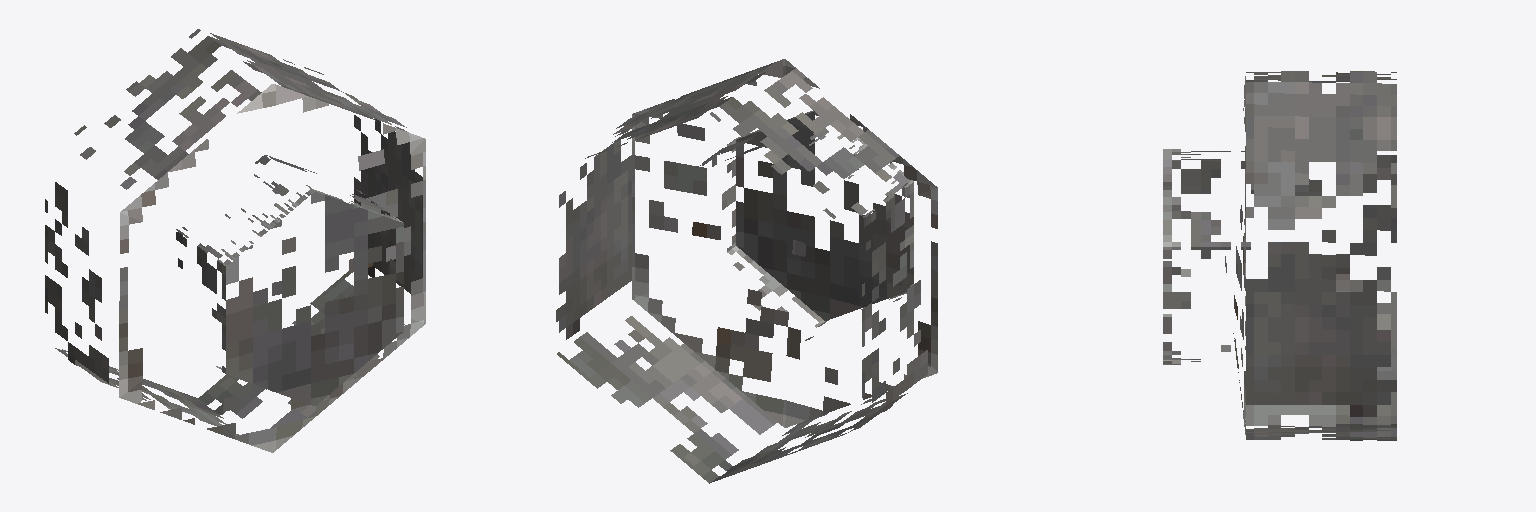
3 renders of one model, left to right at view 1: azimuth 30°, elevation 25°; view 2: azimuth 150°, elevation 25°; view 3: azimuth 270°, elevation 25°, orthographic.
Parts seen in each view (by area): view 1: mtl_p_rus_angle_plate; view 2: mtl_p_rus_angle_plate; view 3: mtl_p_rus_angle_plate.
Boxes of the visible parts, x1,y1,x2,y2 form: mtl_p_rus_angle_plate: [45, 29, 425, 452]; mtl_p_rus_angle_plate: [556, 59, 937, 483]; mtl_p_rus_angle_plate: [1163, 71, 1396, 440].
Size of the model in its own units: 4.38 by 5.05 by 2.88.
1 materials, 1 textured.